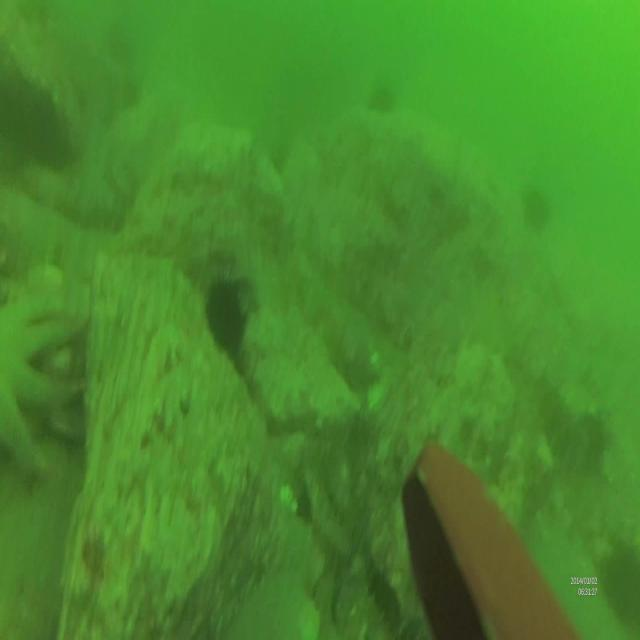echinus: (204, 270, 252, 360)
